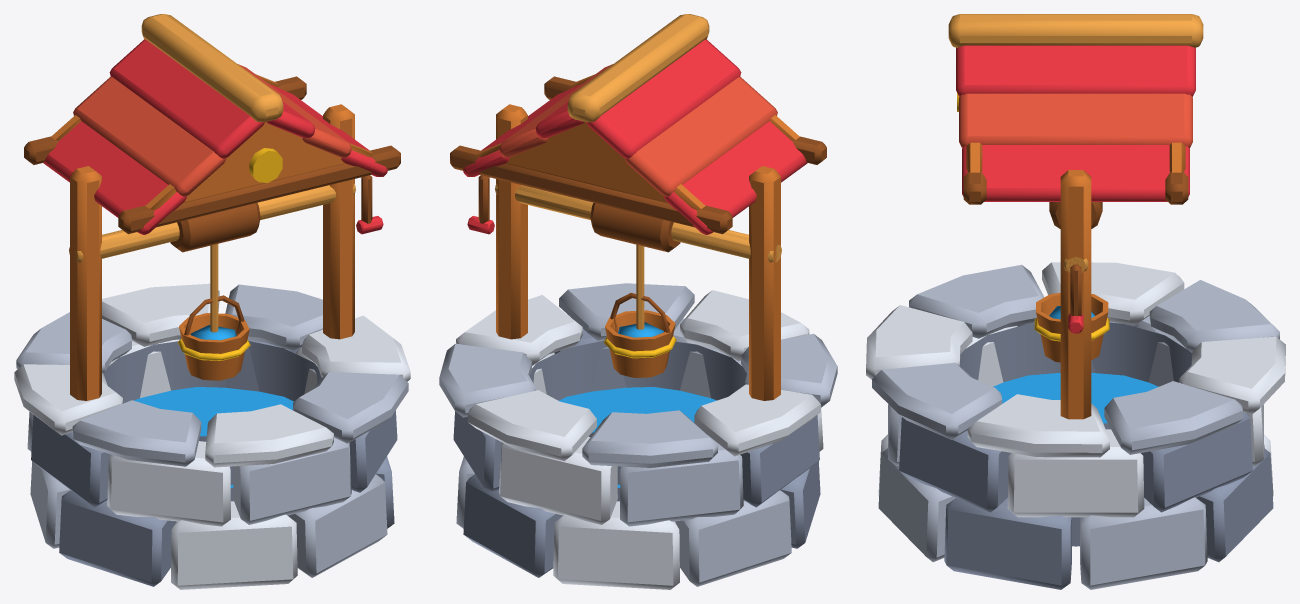
Rendered from well.glb.
3 renders of one model, left to right at view 1: azimuth 30°, elevation 25°; view 2: azimuth 150°, elevation 25°; view 3: azimuth 270°, elevation 25°, orthographic. The views are drawn at different scales.
Visible parts, largest first — view 1: well; view 2: well; view 3: well.
Part boxes in pixels (left/top/right/bottom): well: left=14, top=14, right=410, bottom=589; well: left=439, top=14, right=837, bottom=589; well: left=866, top=14, right=1285, bottom=589.
Size of the model in its own units: 2.21 by 2.86 by 2.21.
